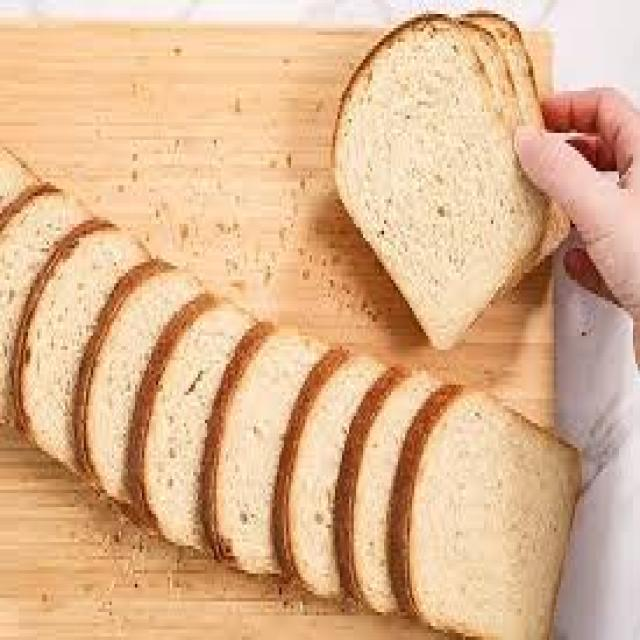Bread: (335, 15, 569, 348), (409, 393, 579, 638), (14, 220, 144, 469), (129, 293, 251, 548), (75, 259, 200, 502), (204, 325, 325, 572), (0, 148, 90, 422), (289, 357, 384, 595), (356, 372, 439, 611)
